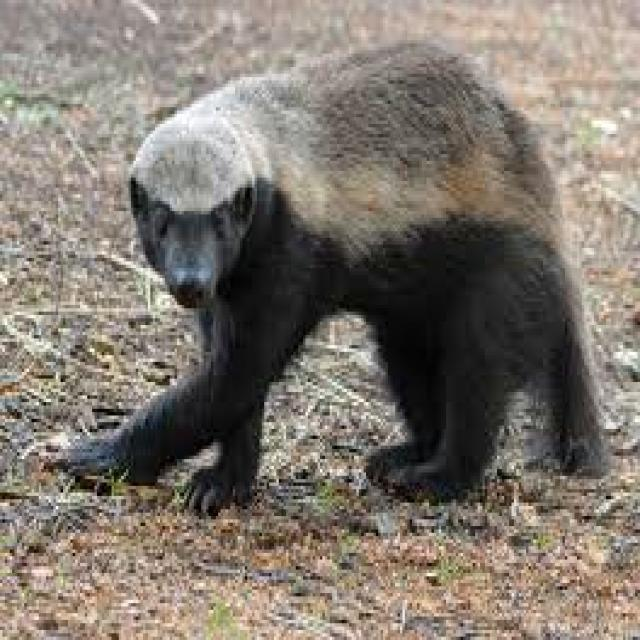badger: (68, 40, 606, 513)
